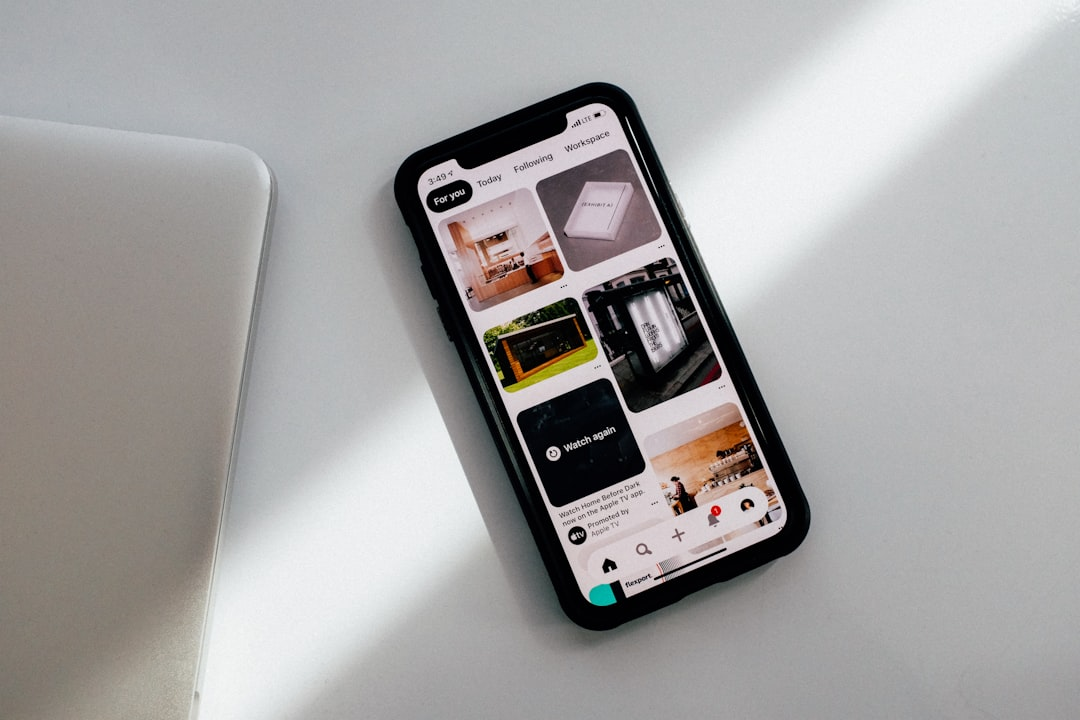phone: (393, 80, 810, 631)
